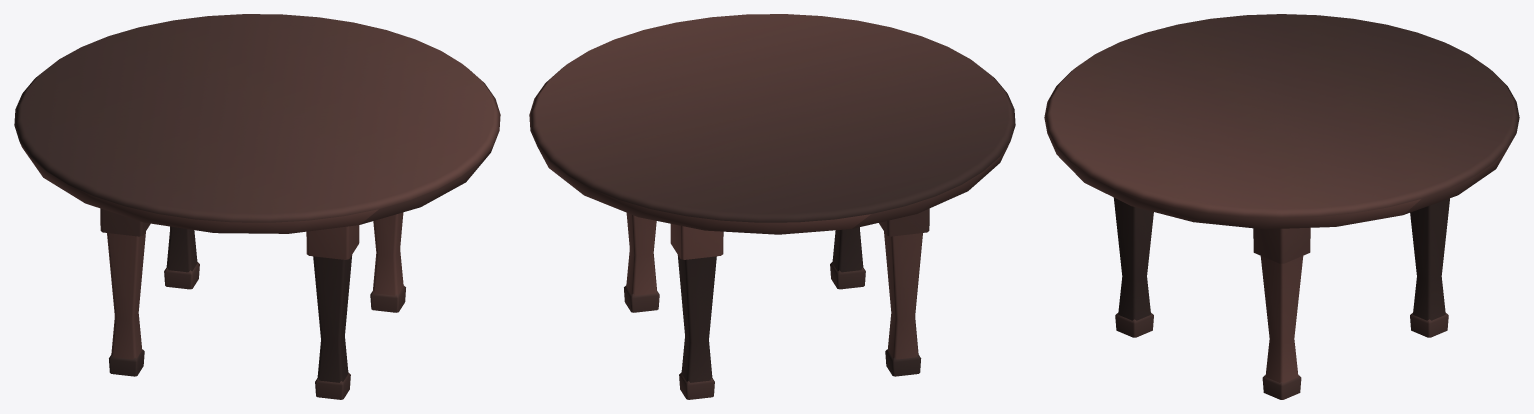
File: TableFancy.fbx
The picture shows the model from 3 angles, left to right: view 1: azimuth 30°, elevation 25°; view 2: azimuth 150°, elevation 25°; view 3: azimuth 270°, elevation 25°; orthographic projection. The views are drawn at different scales.
Visible parts, largest first — view 1: TableFancy; view 2: TableFancy; view 3: TableFancy.
Boxes of the visible parts, x1=… form: TableFancy: x1=14, y1=14, x2=500, y2=399; TableFancy: x1=529, y1=14, x2=1015, y2=399; TableFancy: x1=1044, y1=14, x2=1519, y2=399.
Bounding box in the file's own units: 1.82 × 0.9213 × 1.82.
